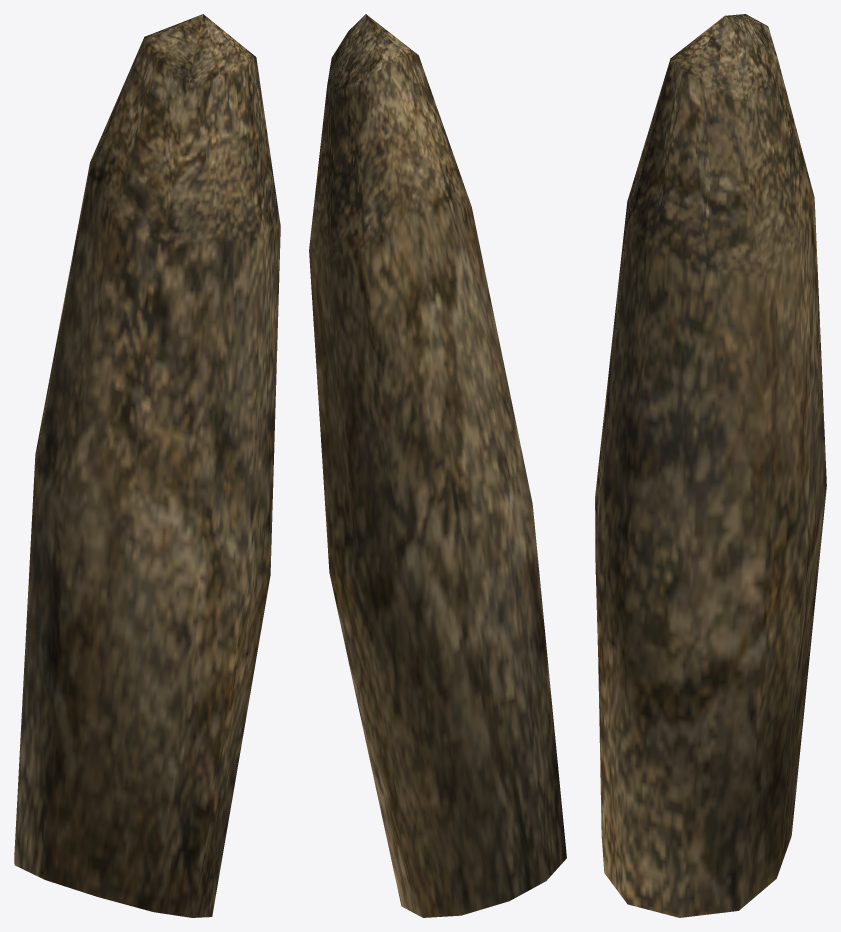
Rendered from CH09_SMAUG_PLAYSURFACE_LONELYMOUNTAIN_LM_PLAYSURFACE27.fbx.
3 renders of one model, left to right at view 1: azimuth 30°, elevation 25°; view 2: azimuth 150°, elevation 25°; view 3: azimuth 270°, elevation 25°, orthographic. The views are drawn at different scales.
Visible parts, largest first — view 1: CH09_SMAUG_PLAYSURFACE_LONELYMOUNTAIN_LM_PLAYSURFACE27; view 2: CH09_SMAUG_PLAYSURFACE_LONELYMOUNTAIN_LM_PLAYSURFACE27; view 3: CH09_SMAUG_PLAYSURFACE_LONELYMOUNTAIN_LM_PLAYSURFACE27.
Part boxes in pixels (x1=…): CH09_SMAUG_PLAYSURFACE_LONELYMOUNTAIN_LM_PLAYSURFACE27: x1=14, y1=14, x2=280, y2=917; CH09_SMAUG_PLAYSURFACE_LONELYMOUNTAIN_LM_PLAYSURFACE27: x1=309, y1=14, x2=566, y2=917; CH09_SMAUG_PLAYSURFACE_LONELYMOUNTAIN_LM_PLAYSURFACE27: x1=595, y1=14, x2=826, y2=917.
Size of the model in its own units: 19759 by 69262 by 15876.
Materials: 1 (1 with a texture image).
